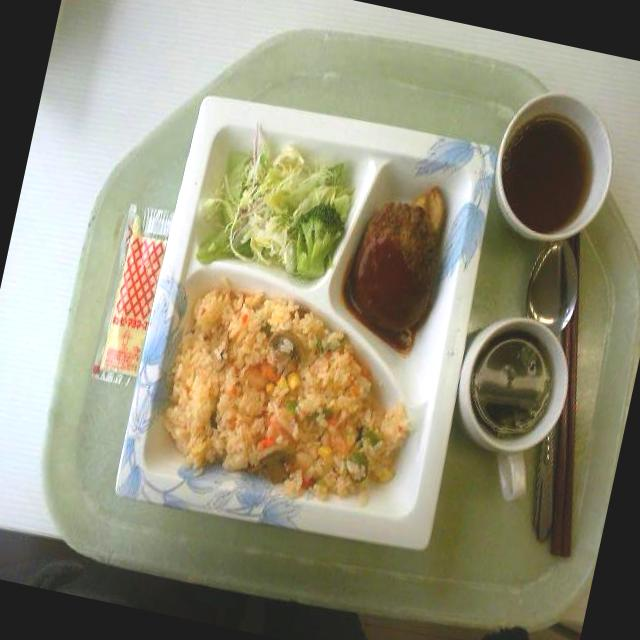Green Salad: (199, 128, 361, 290)
